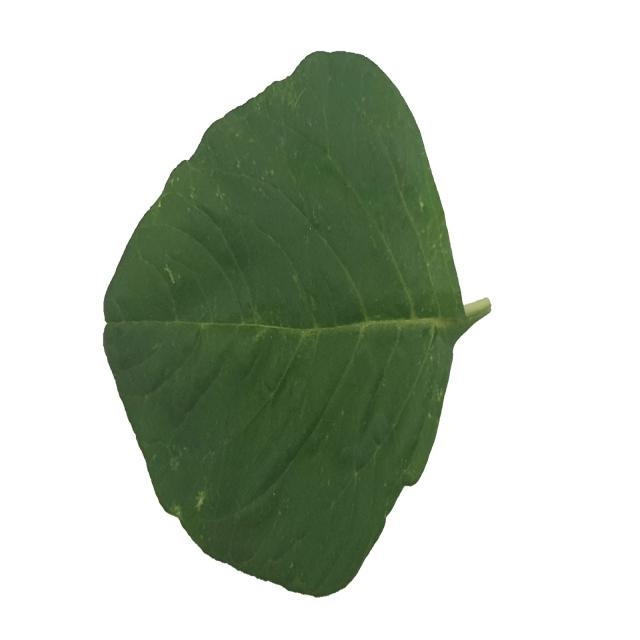Medicinal-Arive Dantu: (95, 45, 493, 596)
